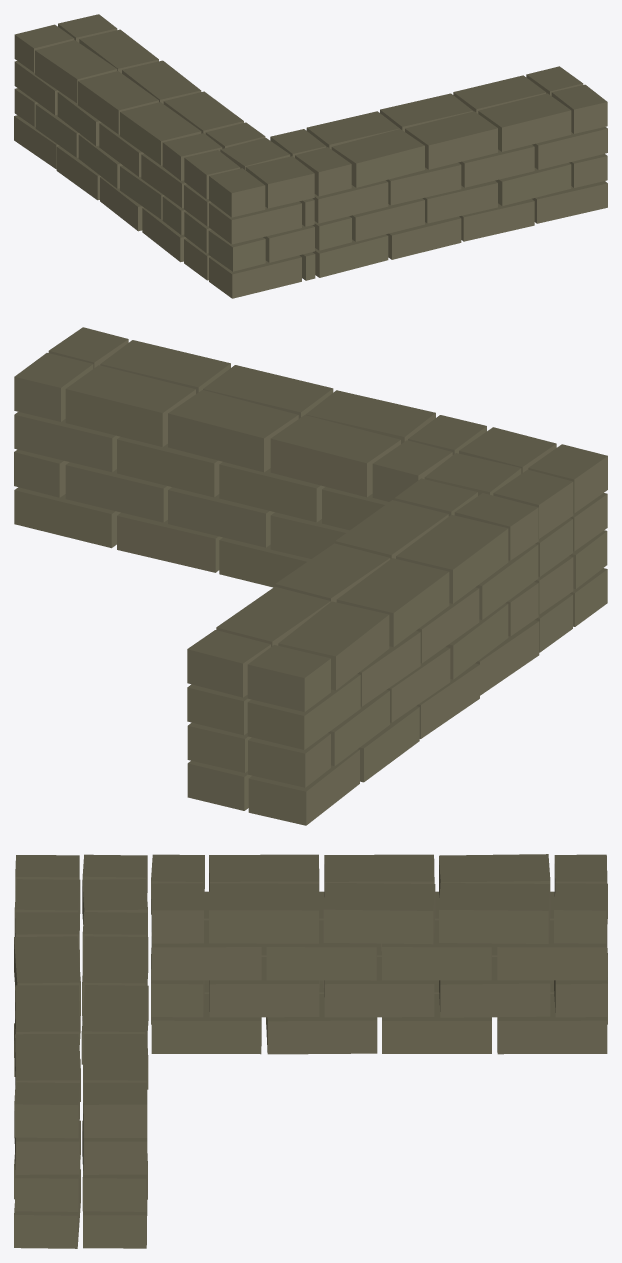
File: SM_SacosEsquina_v0_Recto_e0_Sano_LOD0.fbx
3 views of the same model, one above another, from view 1: azimuth 30°, elevation 25°; view 2: azimuth 150°, elevation 25°; view 3: azimuth 270°, elevation 25° (orthographic). The views are drawn at different scales.
Parts seen in each view (by area): view 1: SM_sacos_piezas_v0_LOD0; view 2: SM_sacos_piezas_v0_LOD0; view 3: SM_sacos_piezas_v0_LOD0.
Part boxes in pixels (box(x1,y1,x2,y2)): SM_sacos_piezas_v0_LOD0: box(14, 14, 607, 298); SM_sacos_piezas_v0_LOD0: box(14, 327, 607, 825); SM_sacos_piezas_v0_LOD0: box(14, 854, 607, 1248).
Size of the model in its own units: 4.38 by 1.17 by 4.38.
